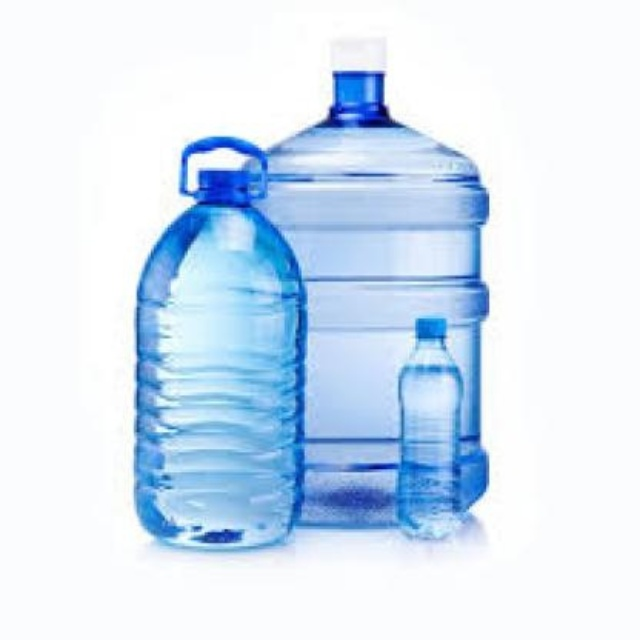trash: (255, 38, 486, 535), (135, 137, 303, 546), (398, 318, 462, 537)
